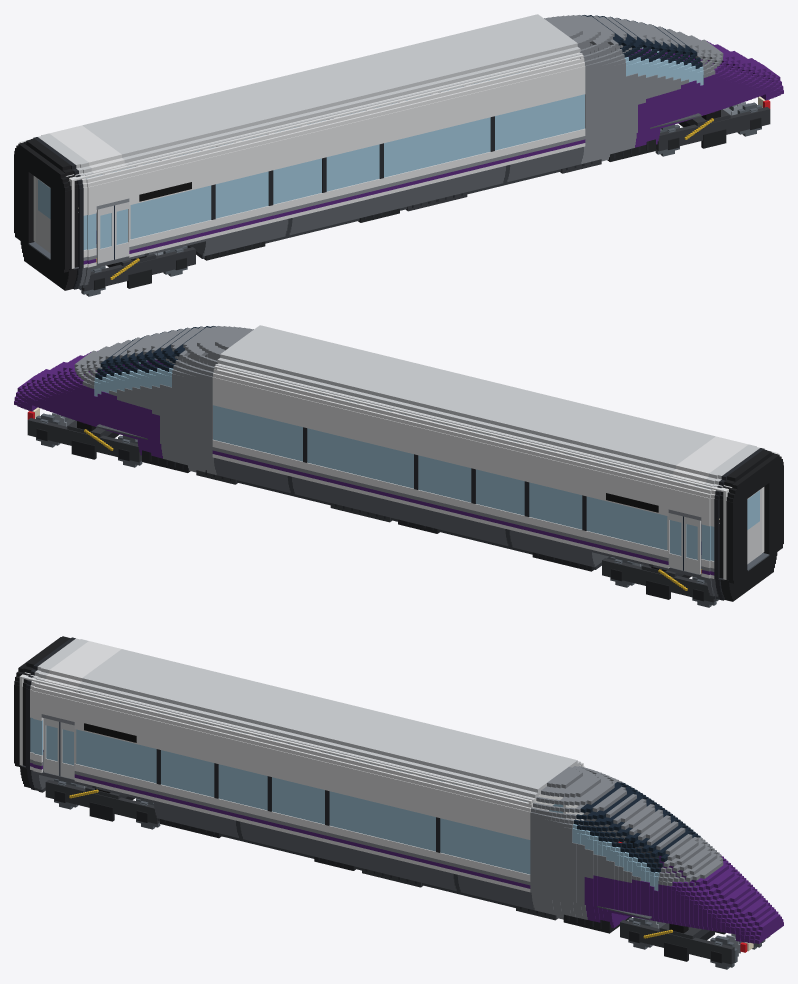
Rendered from tgv_inoui_front.obj.
3 renders of one model, top to bottom at view 1: azimuth 30°, elevation 25°; view 2: azimuth 150°, elevation 25°; view 3: azimuth 330°, elevation 25°, orthographic.
Visible parts, largest first — view 1: SHELL, SHELL_diaphragm, BOGEY_FRONT, SHELL_ceiling, BOGEY_REAR, FRAME, CONNECTING_DOOR_1_CG_CR_TOGGLE_TL_0.98_Z, EXTERNAL_DOOR_3_CG_DR1_TOGGLE_TL_-0.44_X, EXTERNAL_DOOR_4_CG_DR1_TOGGLE_TL_0.44_X, SHELL_end; view 2: SHELL, SHELL_diaphragm, BOGEY_FRONT, SHELL_ceiling, BOGEY_REAR, FRAME, CONNECTING_DOOR_1_CG_CR_TOGGLE_TL_0.98_Z, EXTERNAL_DOOR_6_CG_DL1_TOGGLE_TL_-0.44_X, EXTERNAL_DOOR_7_CG_DL1_TOGGLE_TL_0.44_X, SHELL_end; view 3: SHELL, BOGEY_FRONT, BOGEY_REAR, SHELL_ceiling, FRAME, EXTERNAL_DOOR_3_CG_DR1_TOGGLE_TL_-0.44_X, EXTERNAL_DOOR_4_CG_DR1_TOGGLE_TL_0.44_X.
Boxes of the visible parts, x1,y1,x2,y2 form: SHELL: (20,14,783,290); SHELL_diaphragm: (14,142,69,272); BOGEY_FRONT: (656,107,770,151); SHELL_ceiling: (22,53,580,180); BOGEY_REAR: (81,247,195,291); FRAME: (204,139,655,260); CONNECTING_DOOR_1_CG_CR_TOGGLE_TL_0.98_Z: (36,177,50,253); EXTERNAL_DOOR_3_CG_DR1_TOGGLE_TL_-0.44_X: (97,205,114,263); EXTERNAL_DOOR_4_CG_DR1_TOGGLE_TL_0.44_X: (115,202,130,259); SHELL_end: (19,141,74,268); SHELL: (14,325,777,601); SHELL_diaphragm: (728,453,783,583); BOGEY_FRONT: (27,418,141,462); SHELL_ceiling: (217,364,775,491); BOGEY_REAR: (602,558,716,602); FRAME: (142,450,593,571); CONNECTING_DOOR_1_CG_CR_TOGGLE_TL_0.98_Z: (747,488,761,564); EXTERNAL_DOOR_6_CG_DL1_TOGGLE_TL_-0.44_X: (683,516,700,574); EXTERNAL_DOOR_7_CG_DL1_TOGGLE_TL_0.44_X: (667,513,682,570); SHELL_end: (723,452,778,579); SHELL: (18,636,783,943); BOGEY_FRONT: (620,920,769,964); BOGEY_REAR: (45,780,159,824); SHELL_ceiling: (21,673,532,801); FRAME: (160,819,631,933); EXTERNAL_DOOR_3_CG_DR1_TOGGLE_TL_-0.44_X: (43,718,60,775); EXTERNAL_DOOR_4_CG_DR1_TOGGLE_TL_0.44_X: (60,722,76,779).
Bounding box in the file's own units: 22.31 × 4.05 × 2.92.
Materials: 1 (1 with a texture image).
